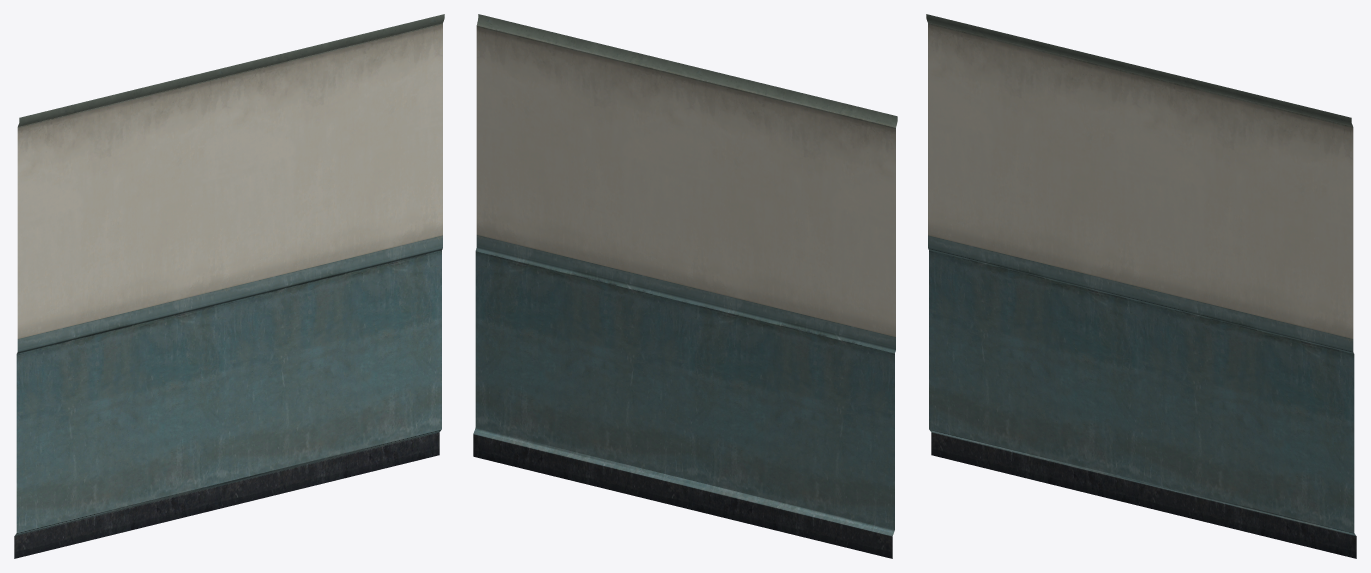
The model's file is scanroom_corridor_wall_flat.dae.
The picture shows the model from 3 angles, left to right: view 1: azimuth 30°, elevation 25°; view 2: azimuth 150°, elevation 25°; view 3: azimuth 330°, elevation 25°; orthographic projection.
Parts seen in each view (by area): view 1: pPlane10; view 2: pPlane10; view 3: pPlane10.
Part boxes in pixels (x1,y1,x2,y2): pPlane10: (14, 14, 444, 558); pPlane10: (473, 14, 897, 558); pPlane10: (926, 14, 1356, 558).
Bounding box in the file's own units: 400 × 400 × 8.52.
